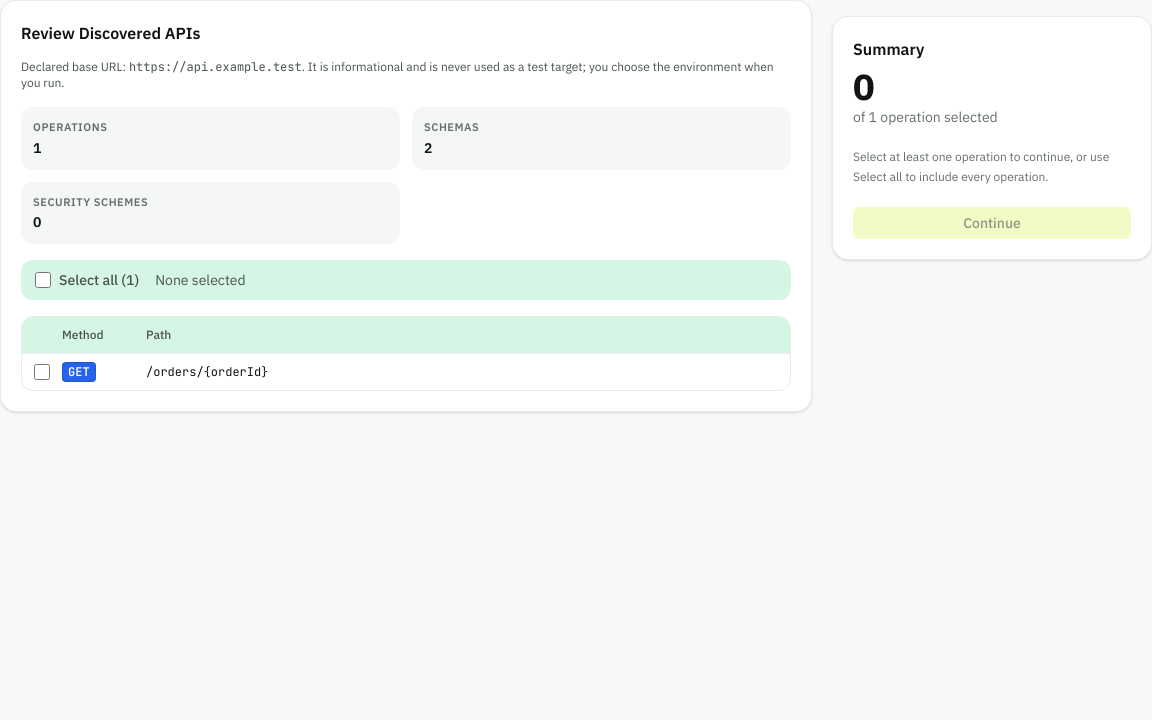
Test case: ApiReviewStage for a definition-derived model (specs/056 US6) › says a parameter's requirement is unknown rather than optional
Click the button "GET /orders/{orderId}": {"x": 79, "y": 372} [62,354,790,390]
(page scrolled)
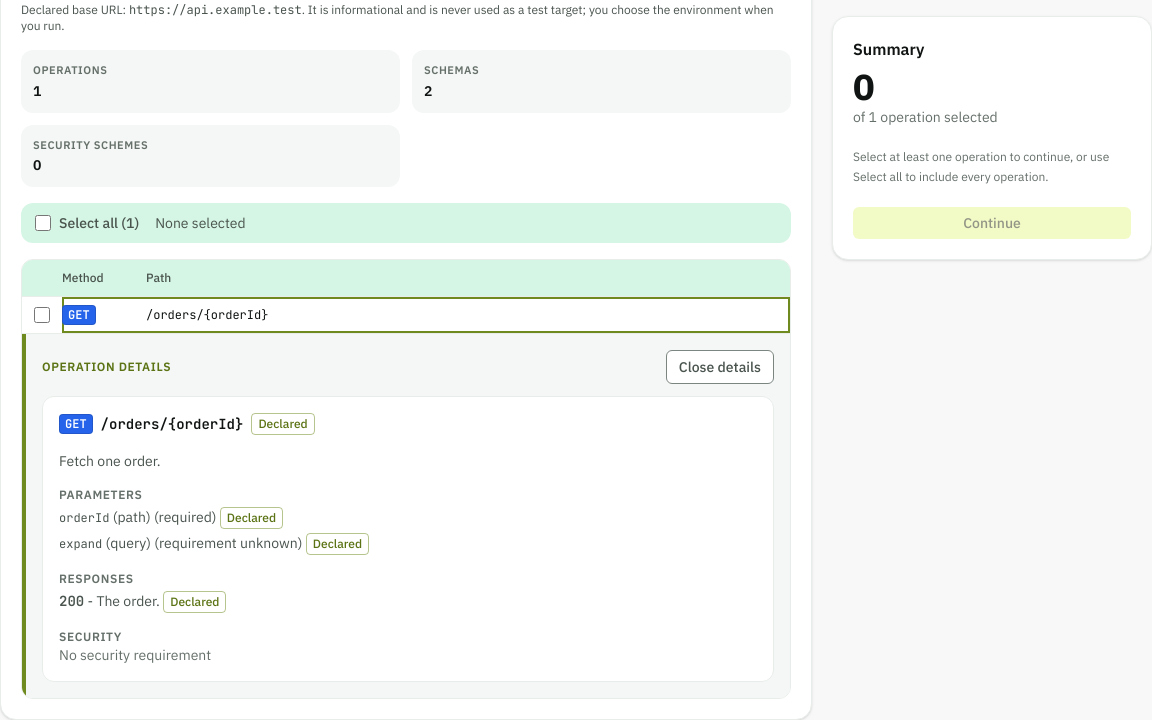
Result: the element with test id "operation-detail" shows "expand (query) (requirement unknown)" at [42,396,774,682]
Result: the element with test id "operation-detail" shows "orderId (path) (required)" at [42,396,774,682]
